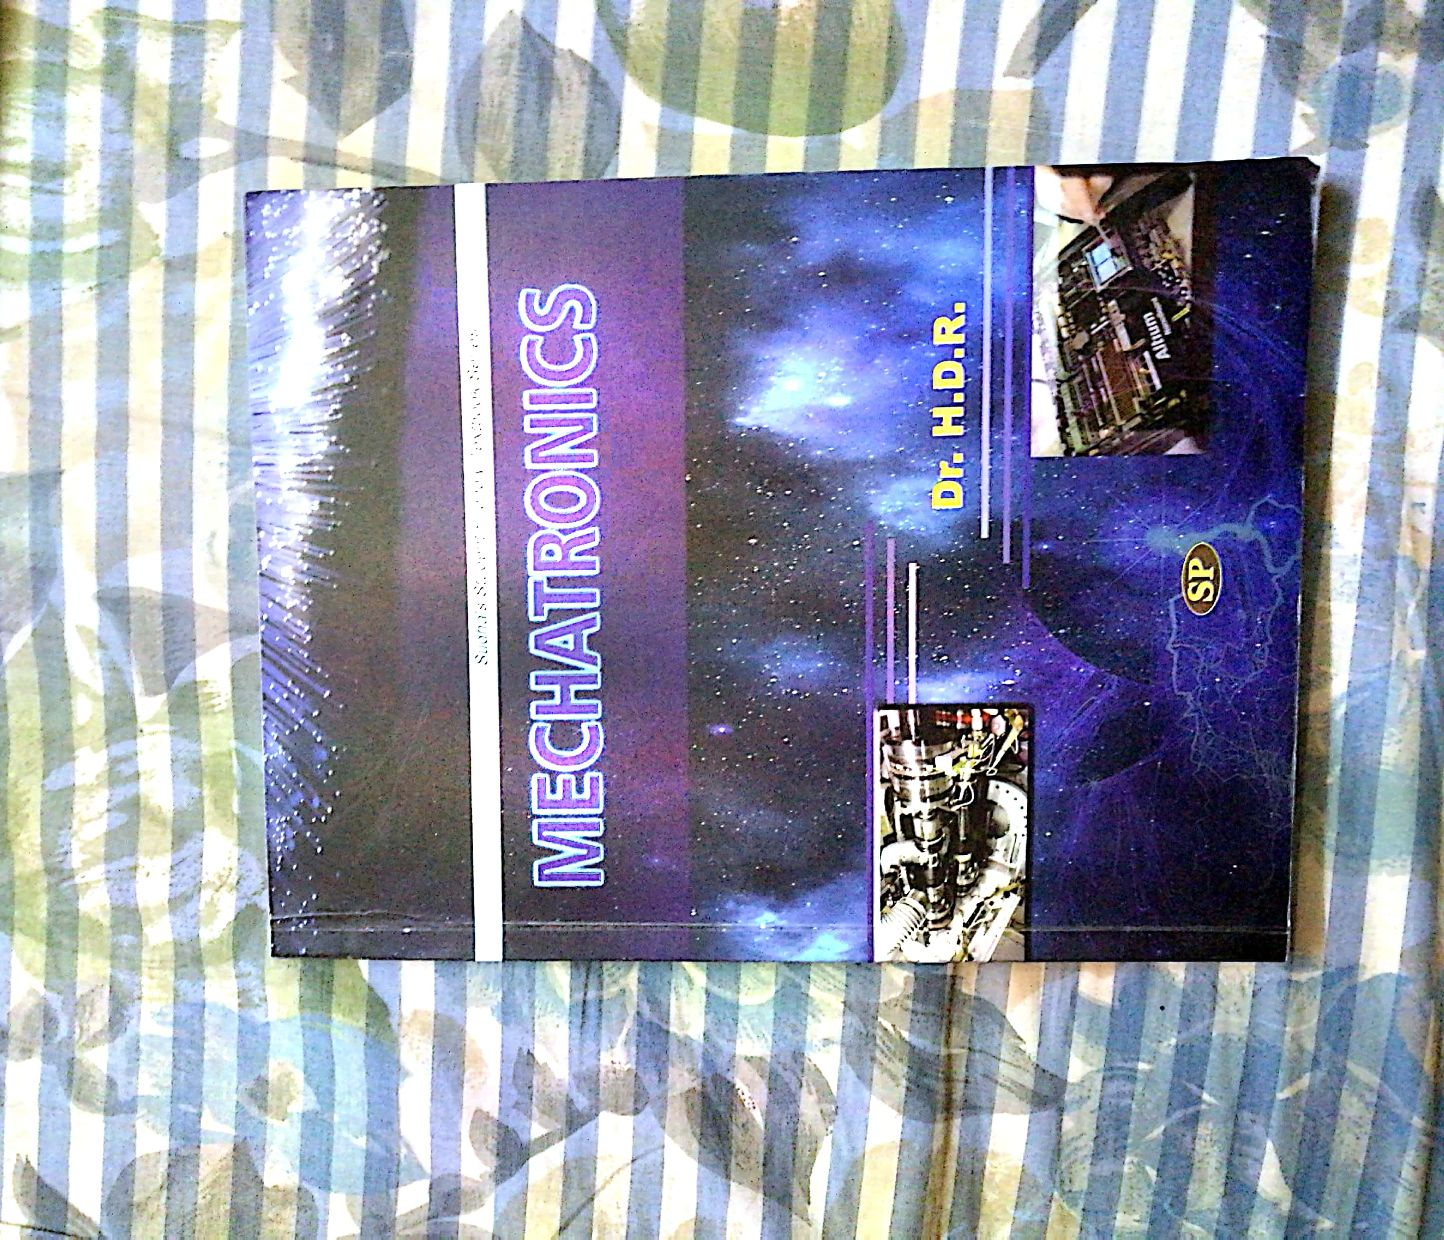mechatronics: (198, 151, 1349, 1042)
